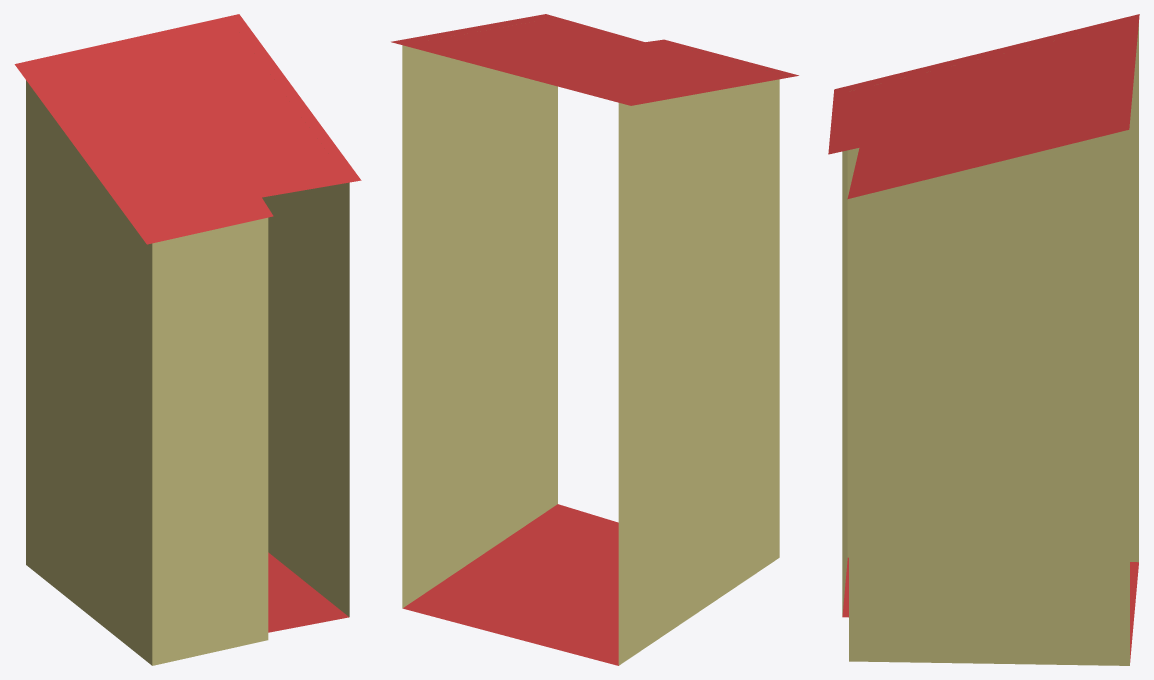
The picture shows the model from 3 angles, left to right: view 1: azimuth 30°, elevation 25°; view 2: azimuth 150°, elevation 25°; view 3: azimuth 270°, elevation 25°; orthographic projection. The views are drawn at different scales.
Bounding box in the file's own units: 5.06 × 5.52 × 10.61.
